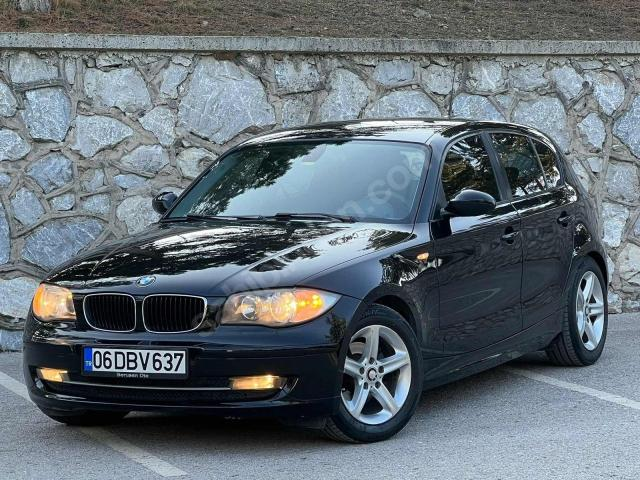plaka: (83, 348, 186, 374)
